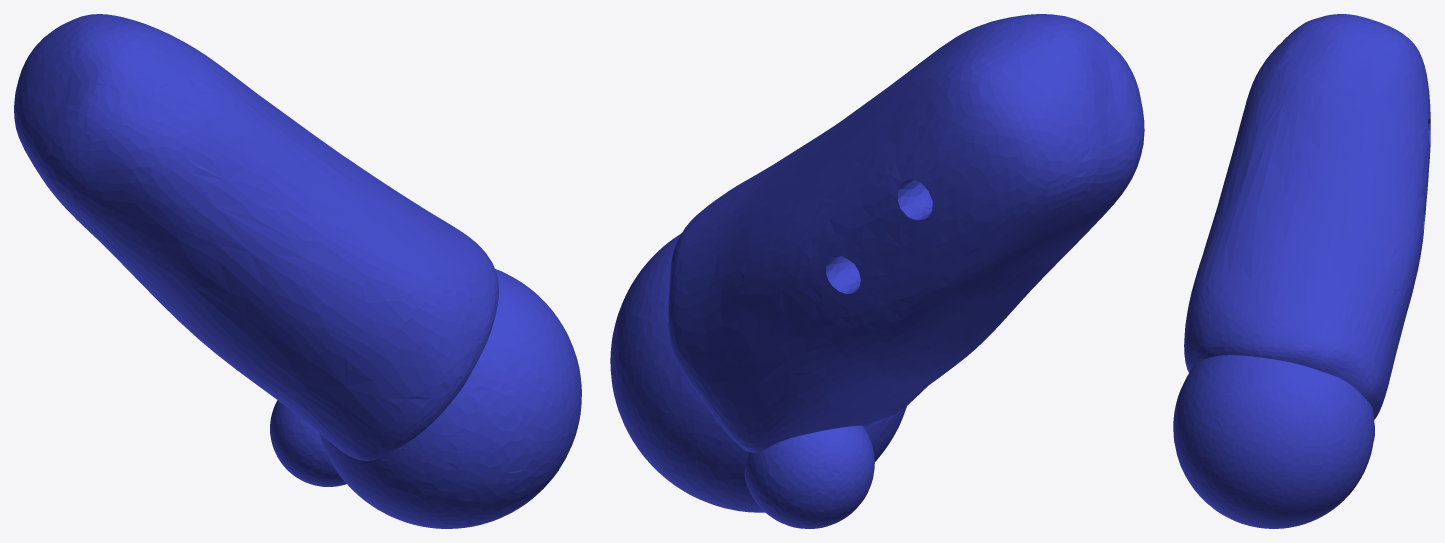
Rendered from body_left.glb.
3 views of the same model, side by side, from view 1: azimuth 30°, elevation 25°; view 2: azimuth 150°, elevation 25°; view 3: azimuth 270°, elevation 25° (orthographic). The views are drawn at different scales.
Size of the model in its own units: 235 by 244 by 145.
